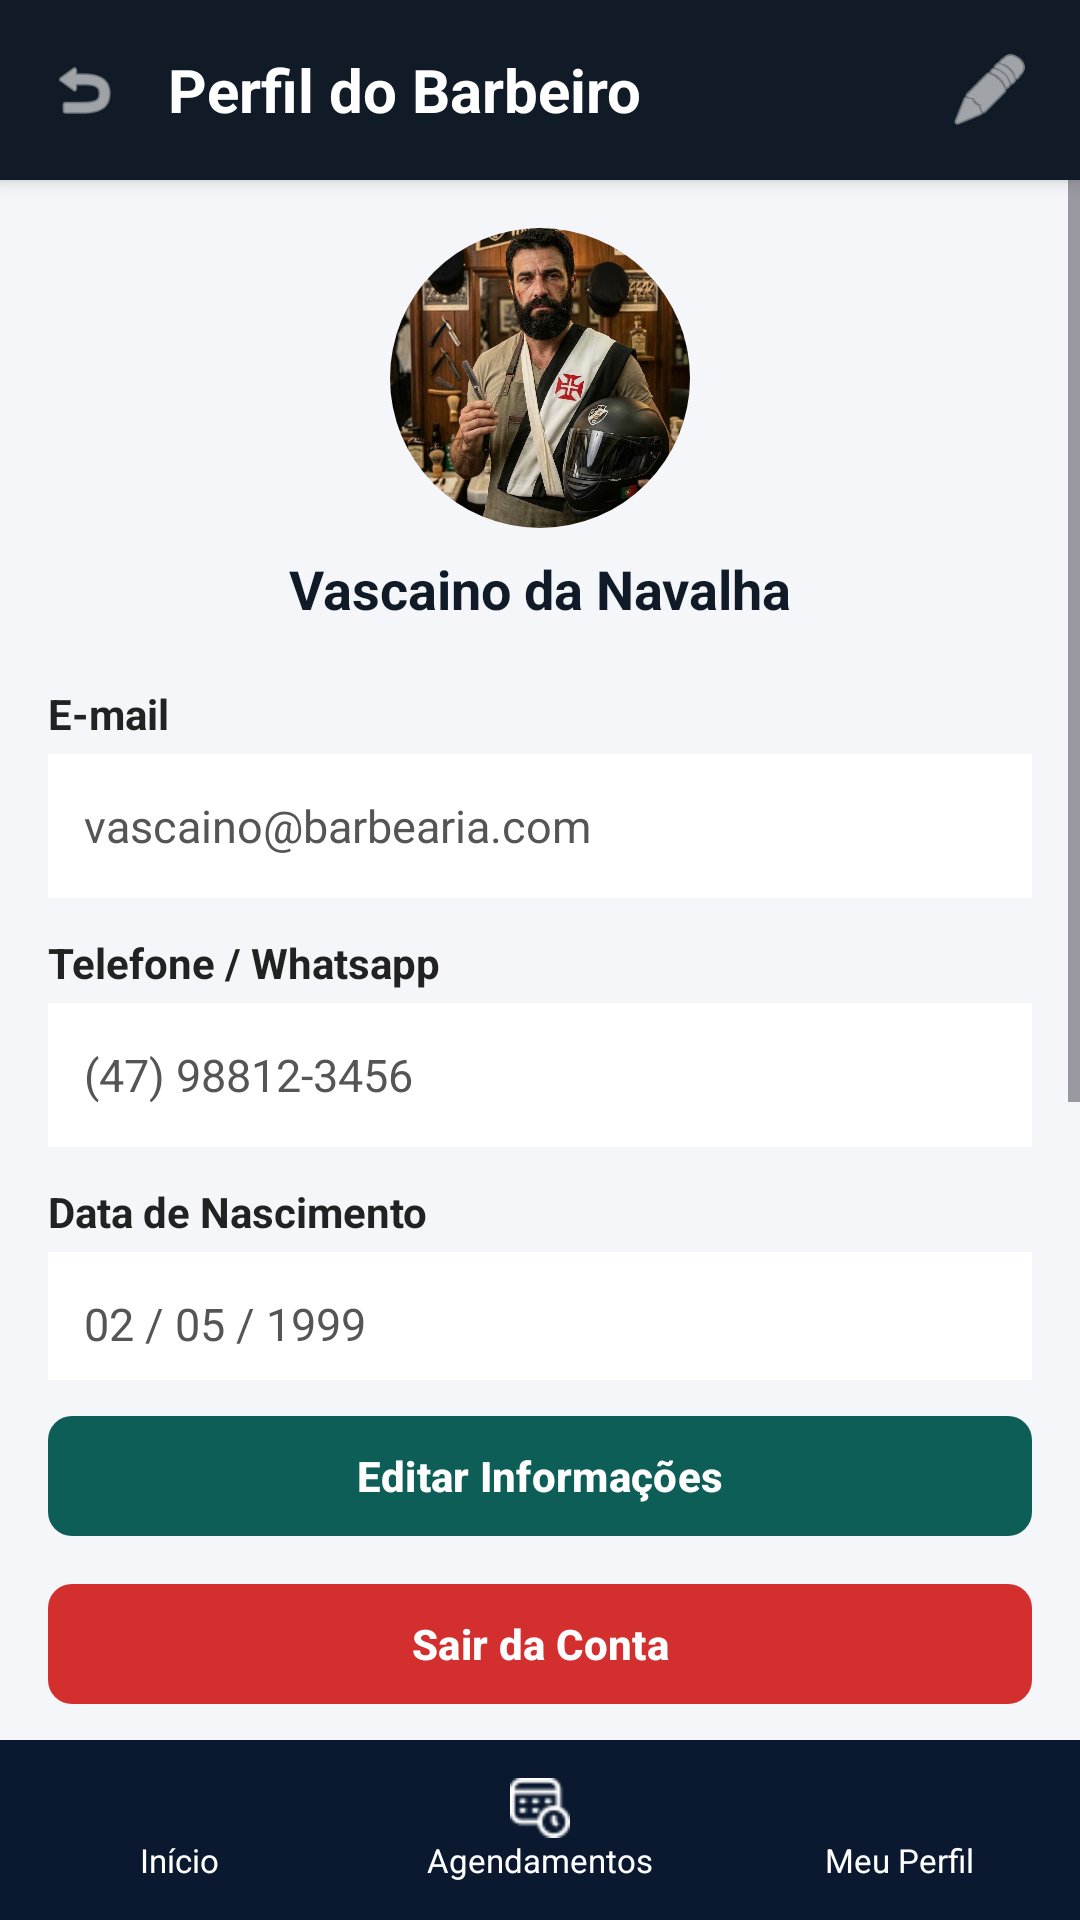

Point at icon controls on the screen. Image size 1080px x 1920px, points as (x,y).
Editar Perfil: (989,89)
Voltar: (85,90)
